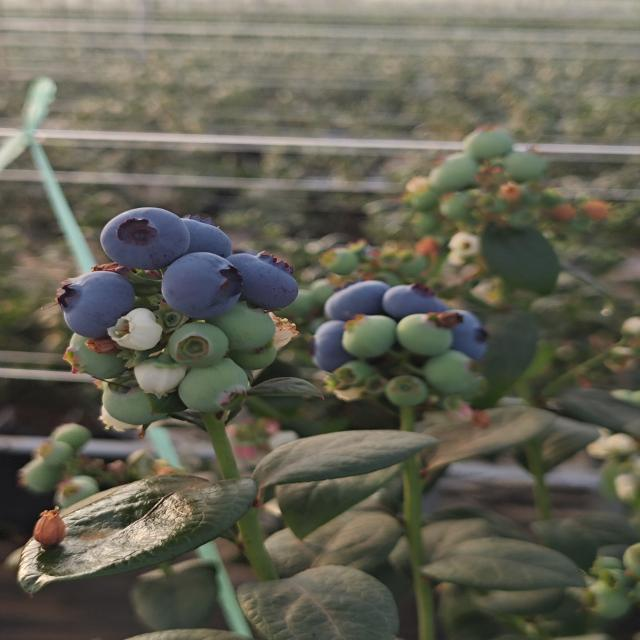ripe: (95, 204, 191, 272), (159, 250, 245, 320), (54, 269, 138, 340), (228, 248, 303, 312), (384, 269, 453, 319), (318, 274, 394, 319), (180, 210, 236, 260), (459, 308, 505, 363), (313, 326, 343, 366)
